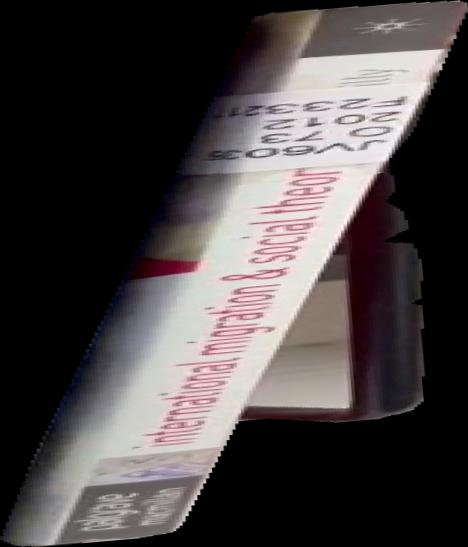reverse: (1, 1, 468, 547)
